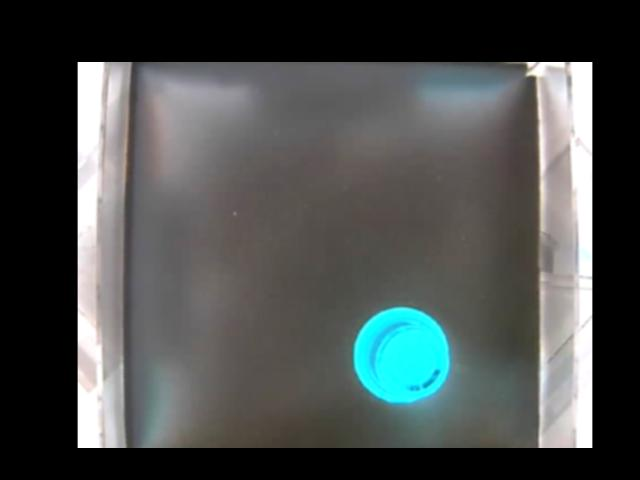Cup: (352, 304, 450, 403)
